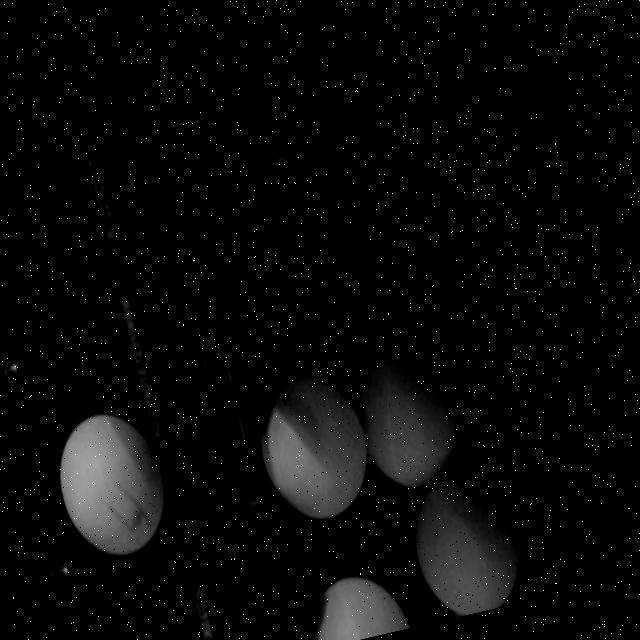ping-pong-ball: (244, 361, 383, 531), (44, 400, 178, 568), (341, 333, 475, 498), (398, 460, 530, 622)
